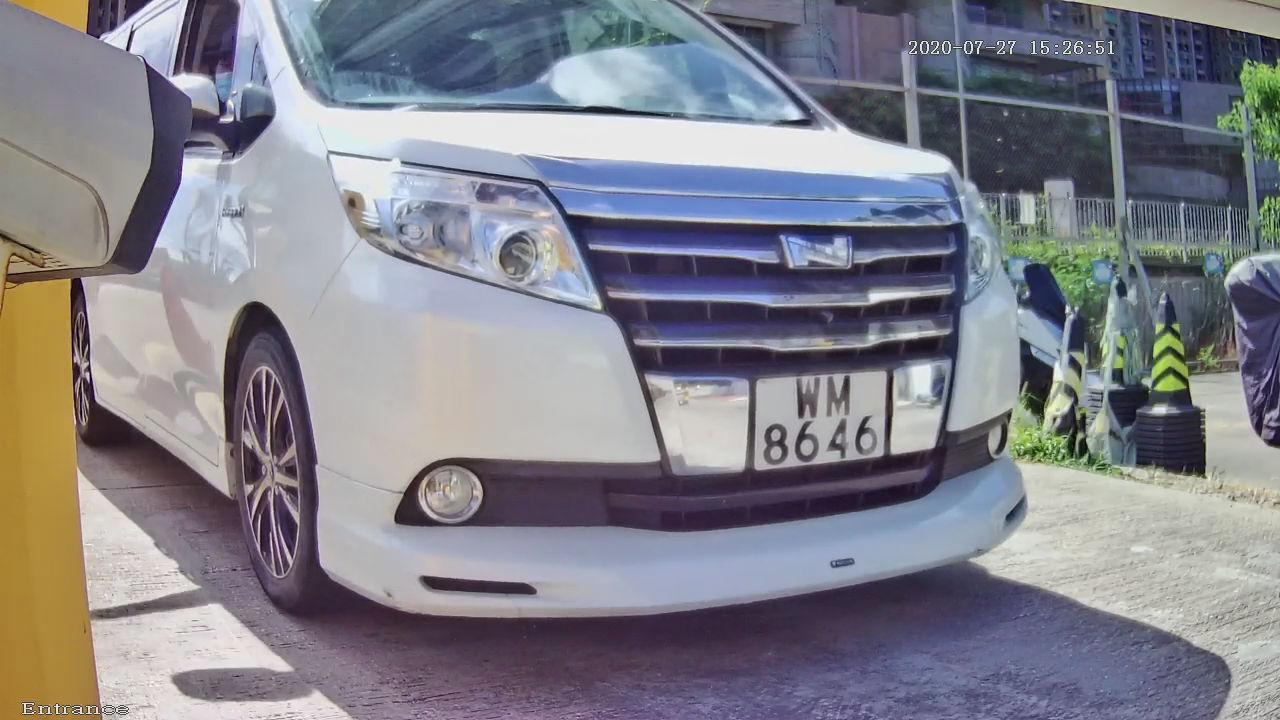privatecar: (75, 10, 1103, 676)
